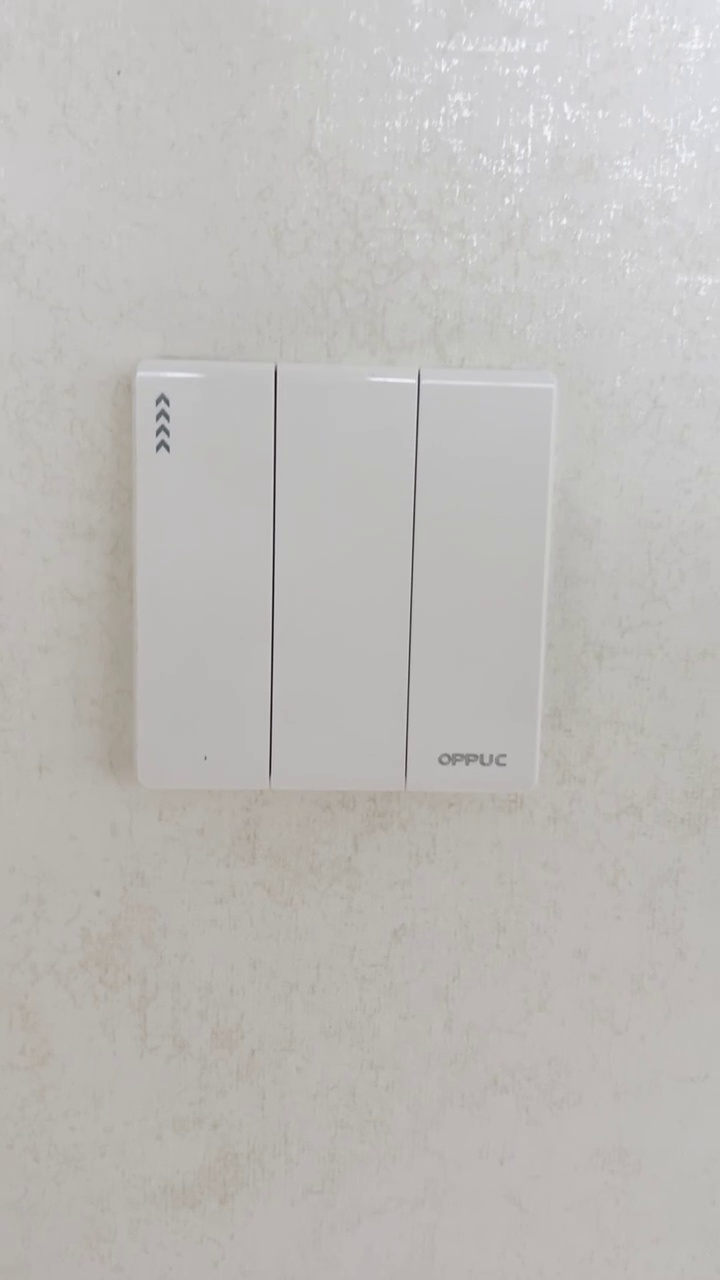button1: (413, 374, 545, 796), (276, 369, 404, 792), (143, 367, 268, 789)
